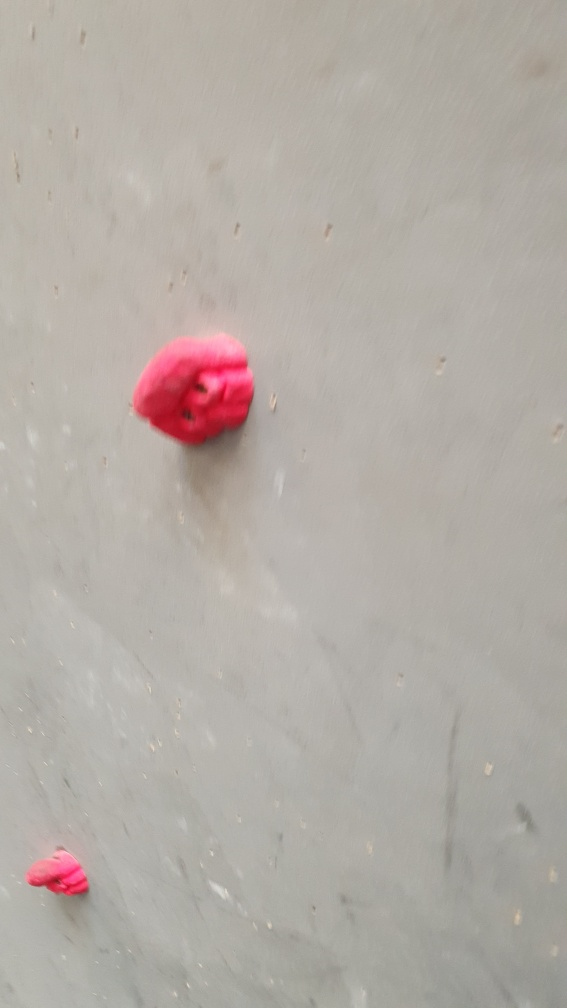Jug: (124, 330, 258, 453), (25, 843, 97, 906)
